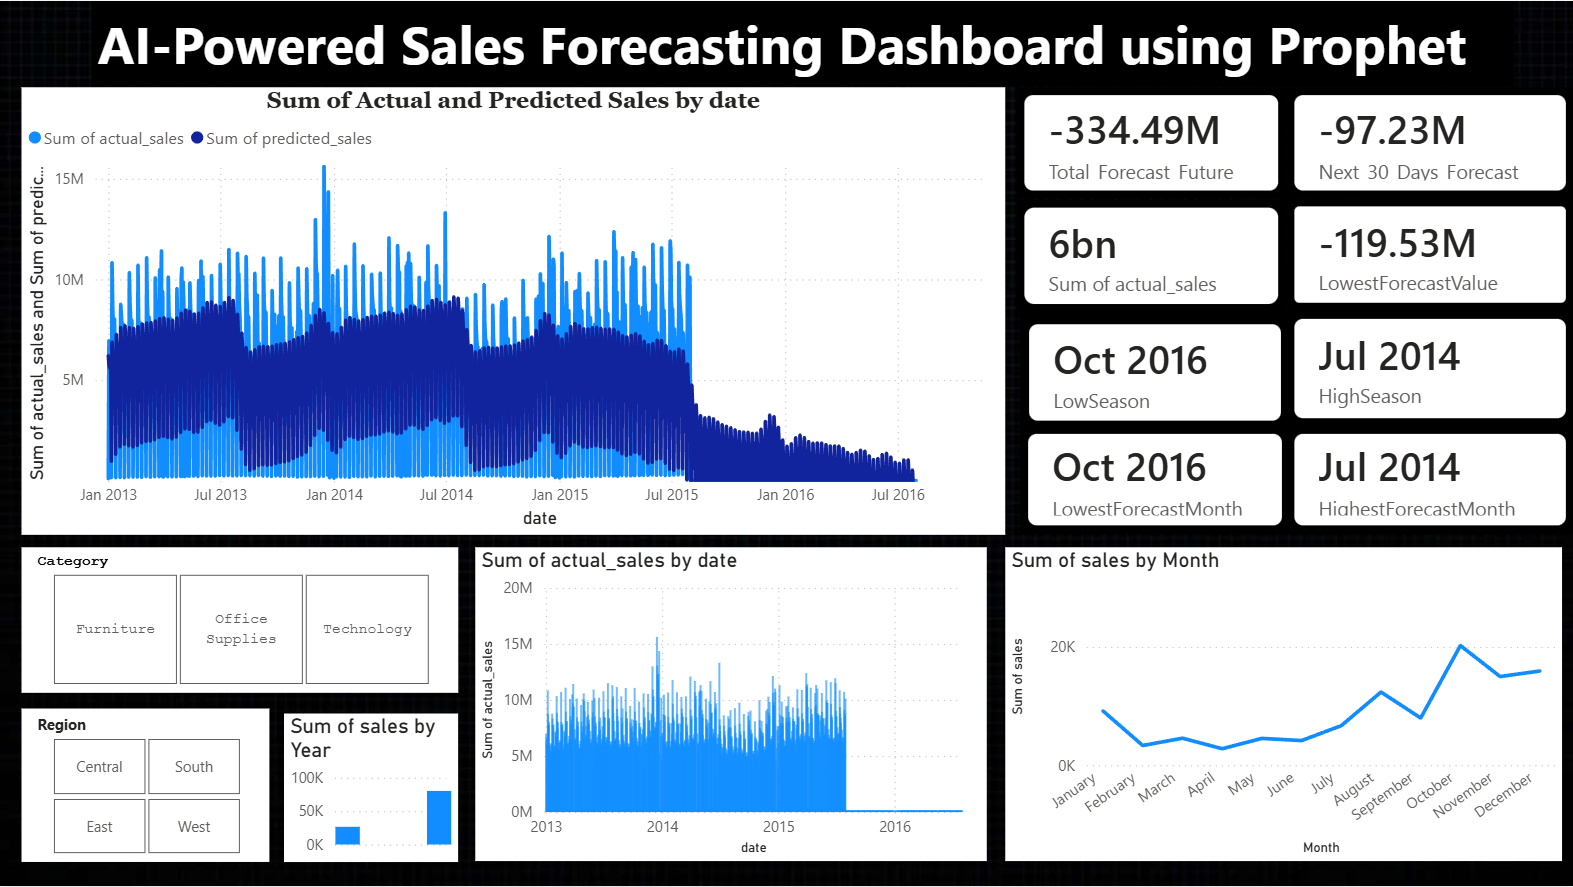

The dashboard page shown, as its layout file describes it:
{"tool":"powerbi","page":{"name":"Page 1","canvas":[1280,720],"ordinal":0},"visuals":[{"type":"lineChart","title":"Sum of Actual and Predicted Sales by date","fields":{"Category":["sales_forecast_for_powerbi (1).date"],"Y":["Sum(sales_forecast_for_powerbi (1).actual_sales)","Sum(sales_forecast_for_powerbi (1).predicted_sales)"]},"box":[17.8,70,800,363.6],"z":0},{"type":"cardVisual","fields":{"Data":["Sum(sales_forecast_for_powerbi (1).actual_sales)"]},"box":[827.4,161.9,219.6,91.9],"z":1000},{"type":"cardVisual","fields":{"Data":["sales_forecast_for_powerbi (1).Next_30_Days_Forecast"]},"box":[1047,70,233.3,90.6],"z":2000},{"type":"cardVisual","fields":{"Data":["sales_forecast_for_powerbi (1).Total_Forecast_Future"]},"box":[827.4,70,219.6,90.6],"z":3000},{"type":"cardVisual","fields":{"Data":["sales_forecast_for_powerbi (1).HighestForecastMonth"]},"box":[1047,345.8,233.3,87.8],"z":4000},{"type":"cardVisual","fields":{"Data":["sales_forecast_for_powerbi (1).LowestForecastMonth"]},"box":[830.2,345.8,219.6,87.8],"z":5000},{"type":"cardVisual","fields":{"Data":["sales_forecast_for_powerbi (1).LowestForecastValue"]},"box":[1047,160.5,233.3,91.9],"z":6000},{"type":"clusteredColumnChart","fields":{"Y":["Sum(sales_forecast_for_powerbi (1).actual_sales)"],"Category":["sales_forecast_for_powerbi (1).date","sales_forecast_for_powerbi (1).date Hierarchy.date"]},"box":[387,444.6,415.8,255.2],"z":7000},{"type":"slicer","fields":{"Values":["FINAL_MERGED_RAW_DATA.category"]},"box":[17.8,444.6,355.4,118],"z":9000},{"type":"slicer","fields":{"Values":["FINAL_MERGED_RAW_DATA.region"]},"box":[17.8,575,201.7,124.9],"z":10000},{"type":"lineChart","fields":{"Category":["FINAL_MERGED_RAW_DATA.date.Variation.Date Hierarchy.Month"],"Y":["Sum(FINAL_MERGED_RAW_DATA.sales)"]},"box":[817.8,444.6,452.8,255.2],"z":11000},{"type":"clusteredColumnChart","fields":{"Category":["FINAL_MERGED_RAW_DATA.date.Variation.Date Hierarchy.Year"],"Y":["Sum(FINAL_MERGED_RAW_DATA.sales)"]},"box":[231.9,579.1,141.3,120.8],"z":12000},{"type":"cardVisual","fields":{"Data":["sales_forecast_for_powerbi (1).LowSeason"]},"box":[830.2,249.7,219.6,98.8],"z":13000},{"type":"cardVisual","fields":{"Data":["sales_forecast_for_powerbi (1).HighSeason"]},"box":[1047,252.5,233.3,93.3],"z":14000},{"type":"textbox","box":[75.5,0,1156.8,70],"z":15000}]}

Visuals, with their boxes in screenshot pixels (x1, y1, x2, y2), scaled from the page's 1280x720 canvas onto the 1573x887 screenshot:
"Sum of Actual and Predicted Sales by date" lineChart: [x1=22, y1=86, x2=1005, y2=534]
cardVisual - Sum(sales_forecast_for_powerbi (1).actual_sales): [x1=1017, y1=199, x2=1287, y2=313]
cardVisual - sales_forecast_for_powerbi (1).Next_30_Days_Forecast: [x1=1287, y1=86, x2=1572, y2=198]
cardVisual - sales_forecast_for_powerbi (1).Total_Forecast_Future: [x1=1017, y1=86, x2=1287, y2=198]
cardVisual - sales_forecast_for_powerbi (1).HighestForecastMonth: [x1=1287, y1=426, x2=1572, y2=534]
cardVisual - sales_forecast_for_powerbi (1).LowestForecastMonth: [x1=1020, y1=426, x2=1290, y2=534]
cardVisual - sales_forecast_for_powerbi (1).LowestForecastValue: [x1=1287, y1=198, x2=1572, y2=311]
clusteredColumnChart - Sum(sales_forecast_for_powerbi (1).actual_sales) x sales_forecast_for_powerbi (1).date: [x1=476, y1=548, x2=987, y2=862]
slicer - FINAL_MERGED_RAW_DATA.category: [x1=22, y1=548, x2=459, y2=693]
slicer - FINAL_MERGED_RAW_DATA.region: [x1=22, y1=708, x2=270, y2=862]
lineChart - FINAL_MERGED_RAW_DATA.date.Variation.Date Hierarchy.Month x Sum(FINAL_MERGED_RAW_DATA.sales): [x1=1005, y1=548, x2=1561, y2=862]
clusteredColumnChart - FINAL_MERGED_RAW_DATA.date.Variation.Date Hierarchy.Year x Sum(FINAL_MERGED_RAW_DATA.sales): [x1=285, y1=713, x2=459, y2=862]
cardVisual - sales_forecast_for_powerbi (1).LowSeason: [x1=1020, y1=308, x2=1290, y2=429]
cardVisual - sales_forecast_for_powerbi (1).HighSeason: [x1=1287, y1=311, x2=1572, y2=426]
textbox: [x1=93, y1=0, x2=1514, y2=86]
